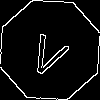V: (25, 25, 75, 80)
